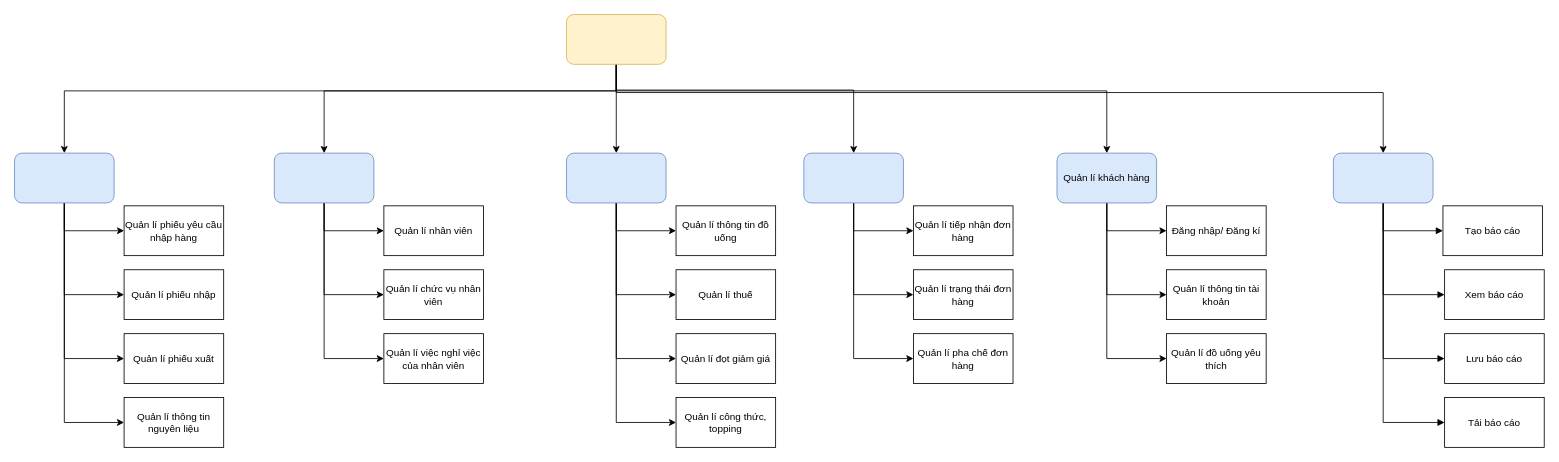
This 1559x462 diagram has some shape labels left out. The centre of each missing label's shape, as x and y in pixels:
Hệ thống quản lí cơ sở bán đồ uống: the point at 616,39
Quản lí báo cáo: the point at 1383,177
Quản lí nguyên liệu: the point at 64,177
Quản lí nhân sự: the point at 323,177
Quản lí đơn hàng: the point at 853,177
Quản lí đồ uống: the point at 616,177
